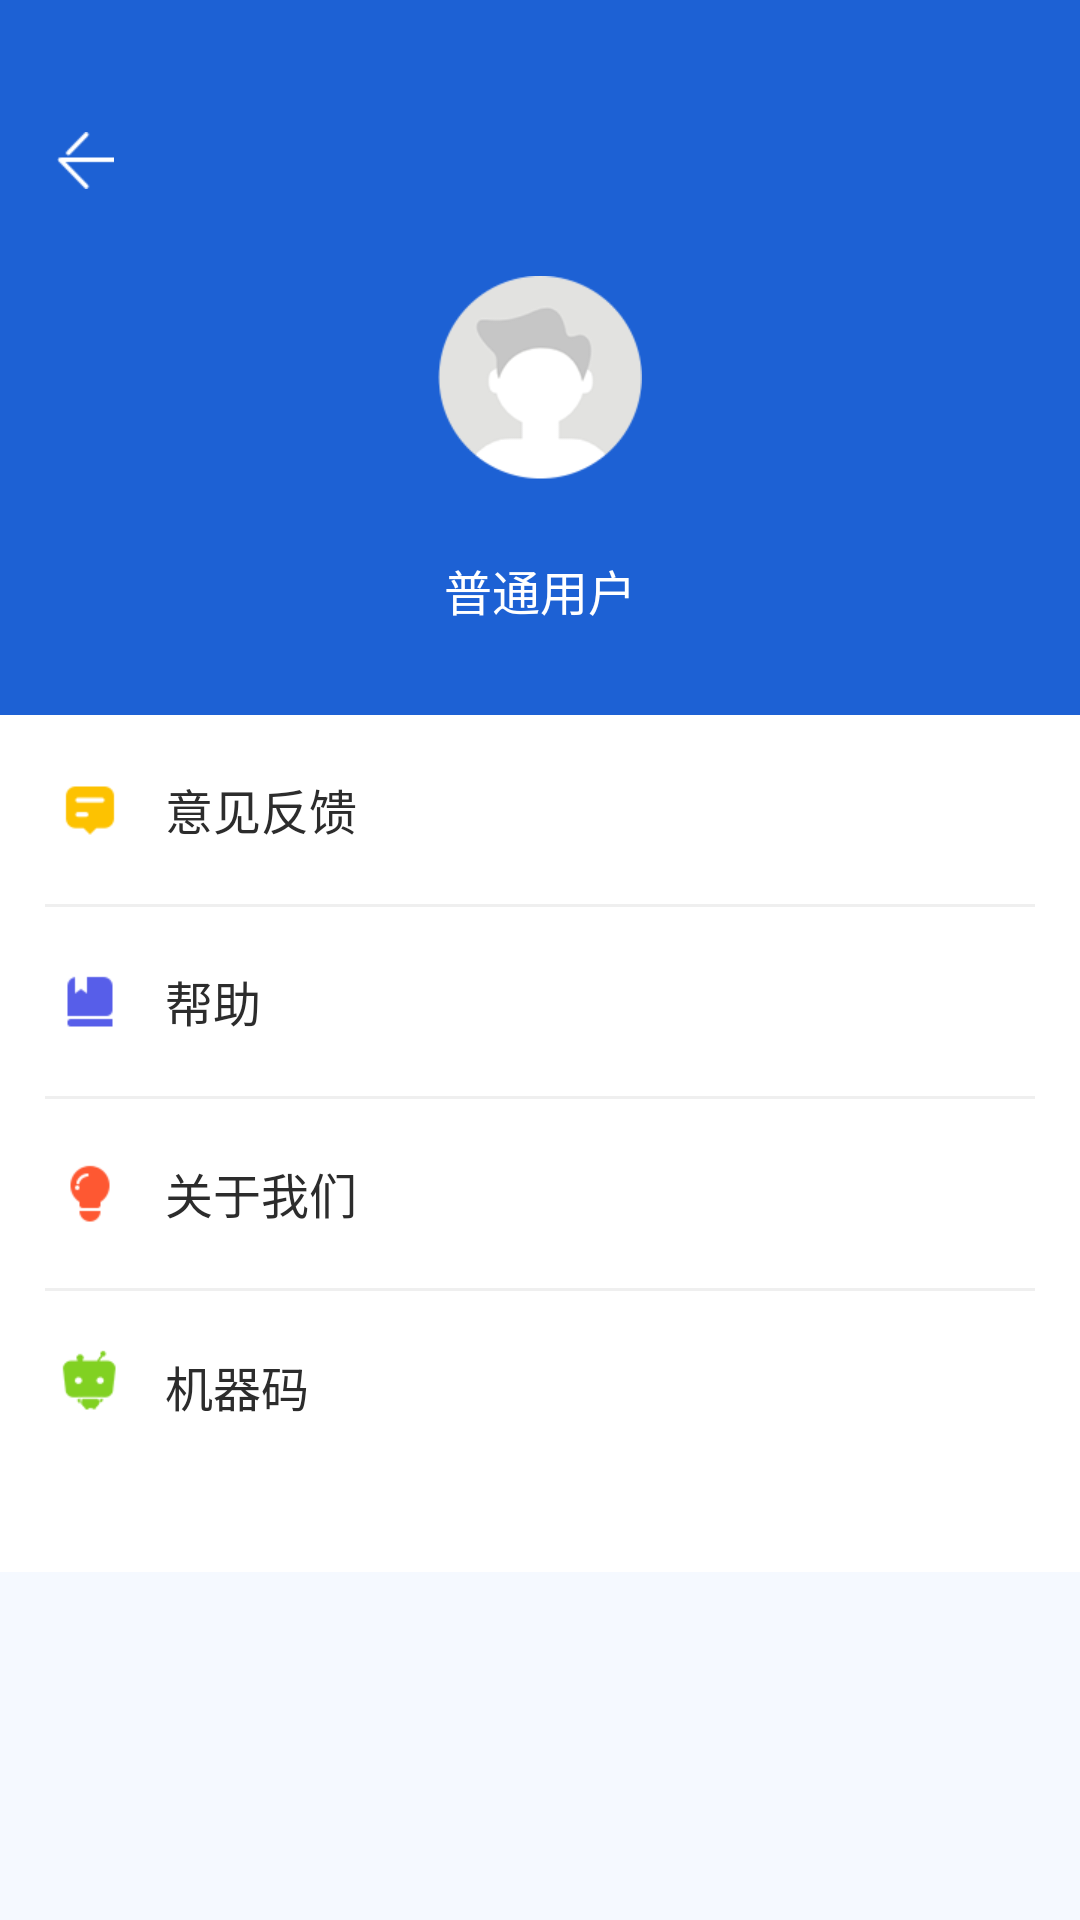

Icon bounding boxes for this 1080px x 1920px phone screenshot, format (x1, y1, x2, y2):
back: (57, 132, 114, 189)
user about: (70, 1165, 110, 1222)
user code: (62, 1350, 116, 1410)
user contact: (65, 786, 115, 835)
user head: (438, 276, 642, 479)
user help: (67, 976, 113, 1027)
